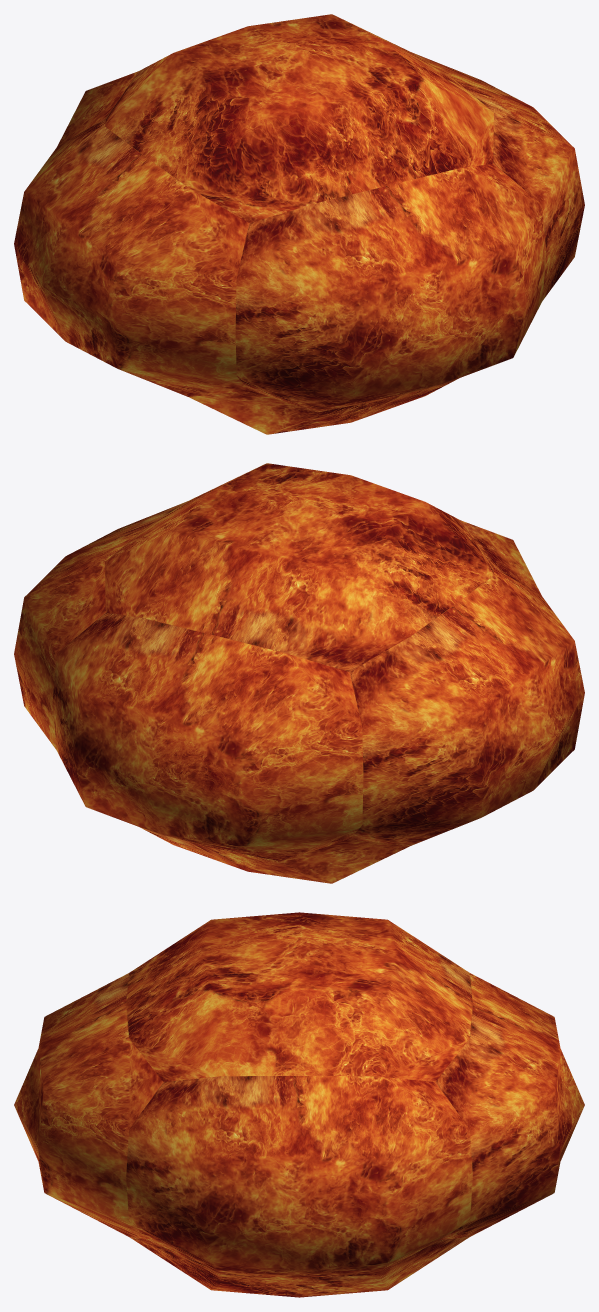
Rendered from Bomb_dart.FBX.
3 views of the same model, one above another, from view 1: azimuth 30°, elevation 25°; view 2: azimuth 150°, elevation 25°; view 3: azimuth 270°, elevation 25° (orthographic). The views are drawn at different scales.
Visible parts, largest first — view 1: Box01; view 2: Box01; view 3: Box01.
Boxes of the visible parts, x1,y1,x2,y2 form: Box01: (14, 14, 584, 434); Box01: (14, 463, 584, 883); Box01: (14, 912, 584, 1297).
Bounding box in the file's own units: 5.21 × 3.42 × 5.32.
1 material, 1 textured.
